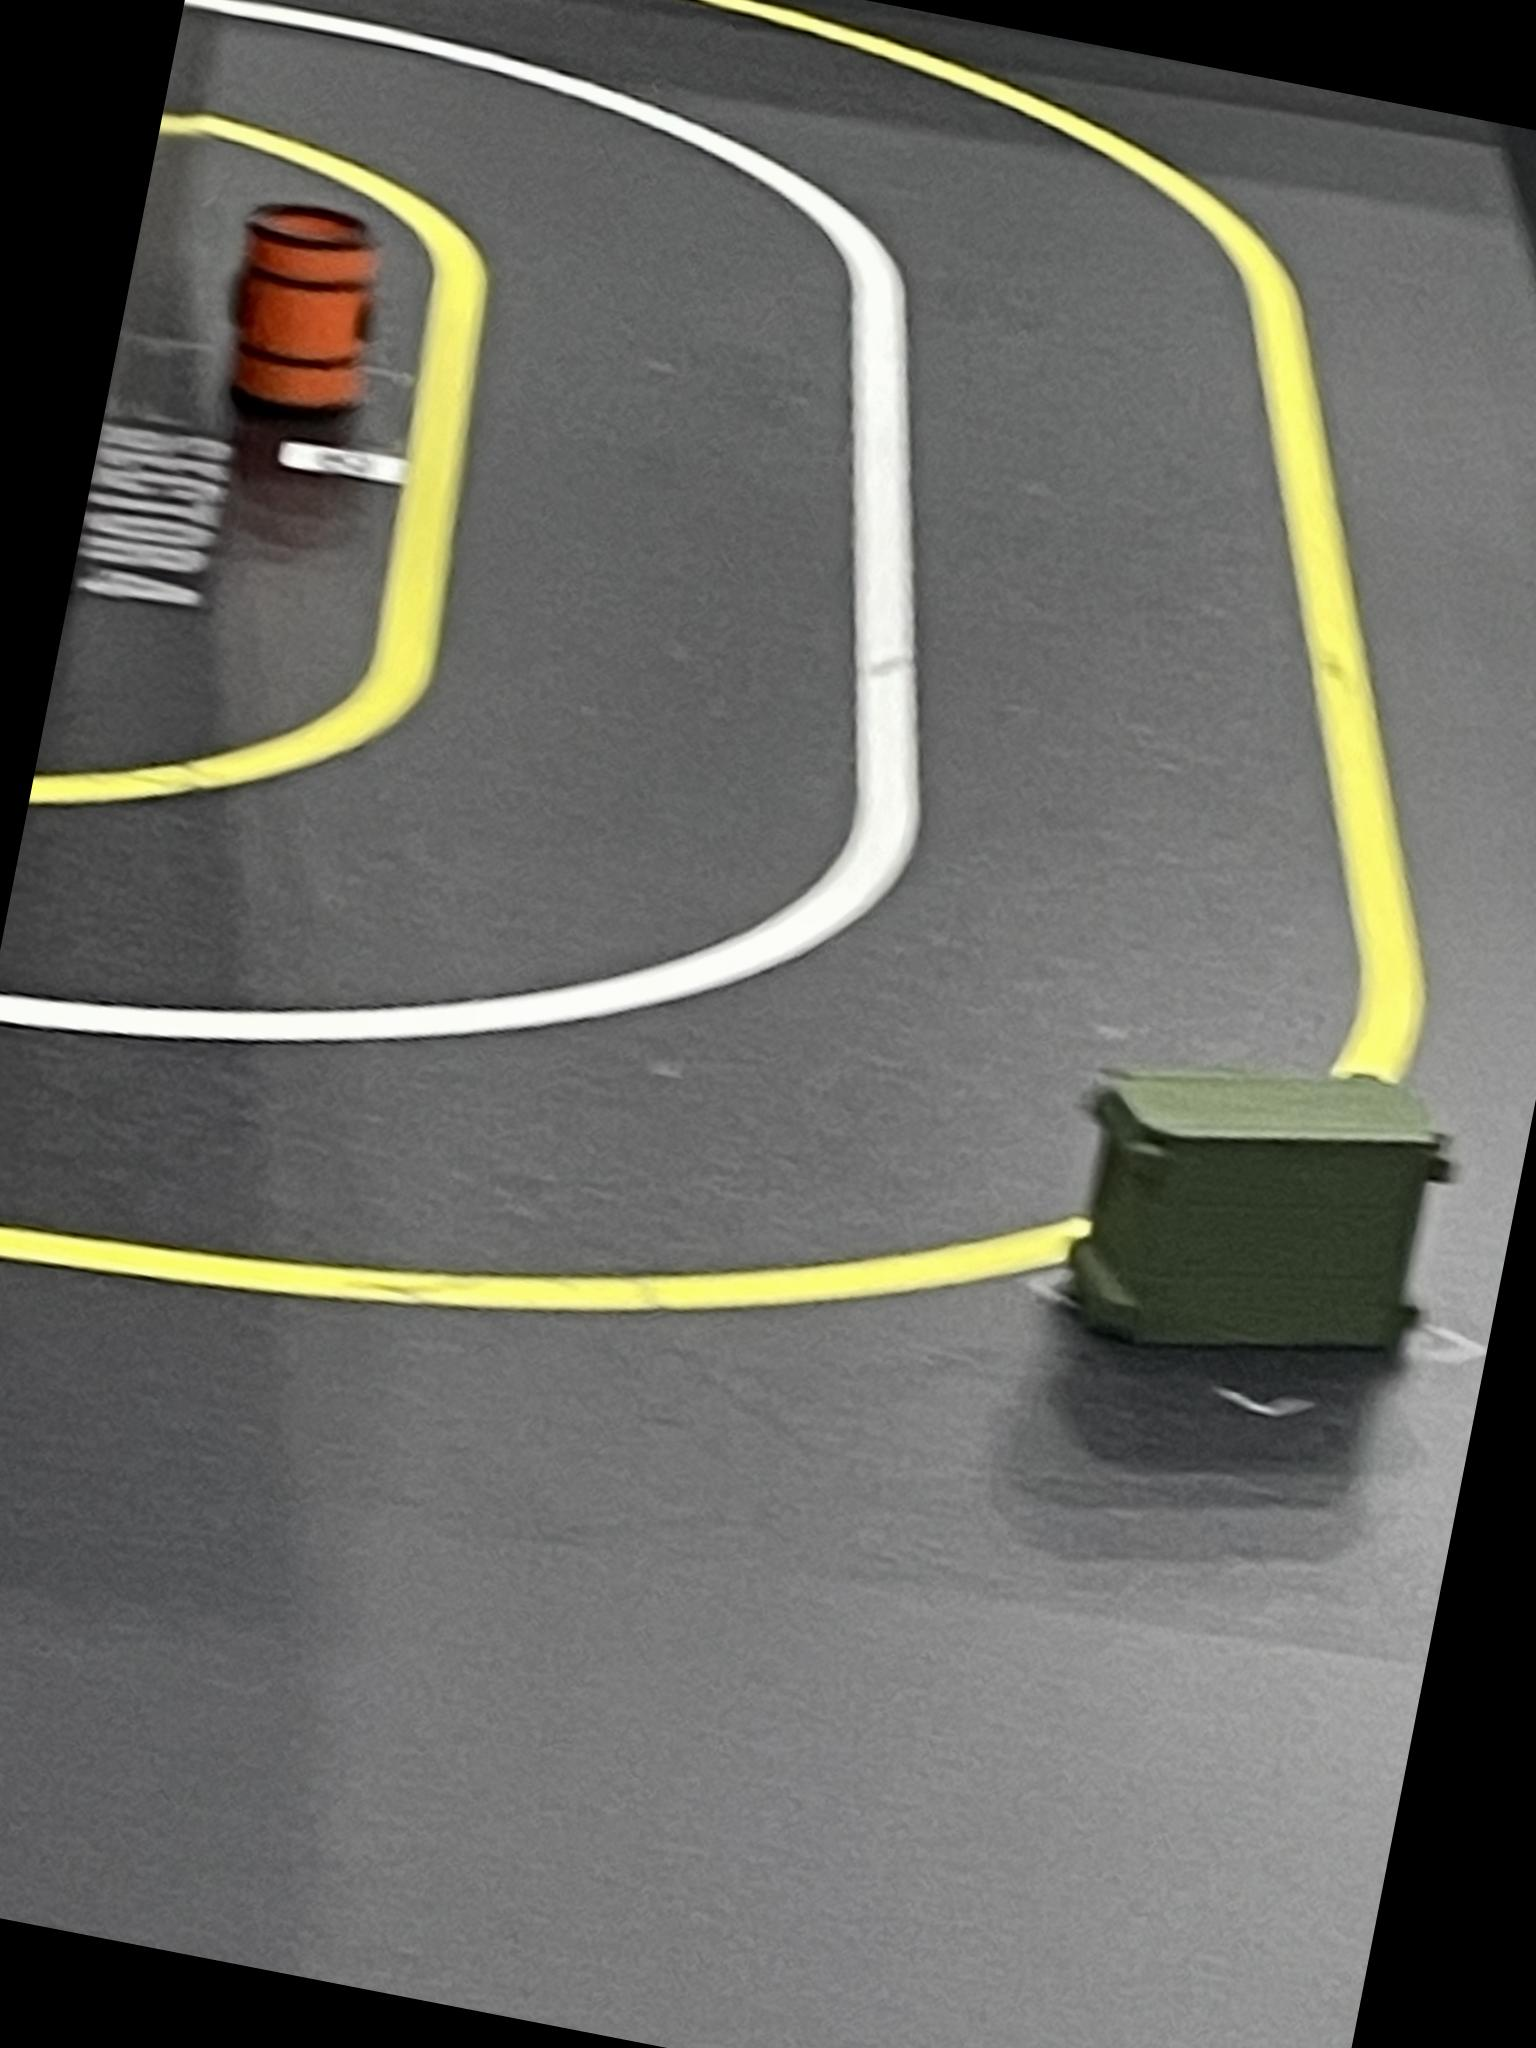Box: (1036, 1008, 1480, 1416)
Hazmat: (202, 190, 405, 450)
